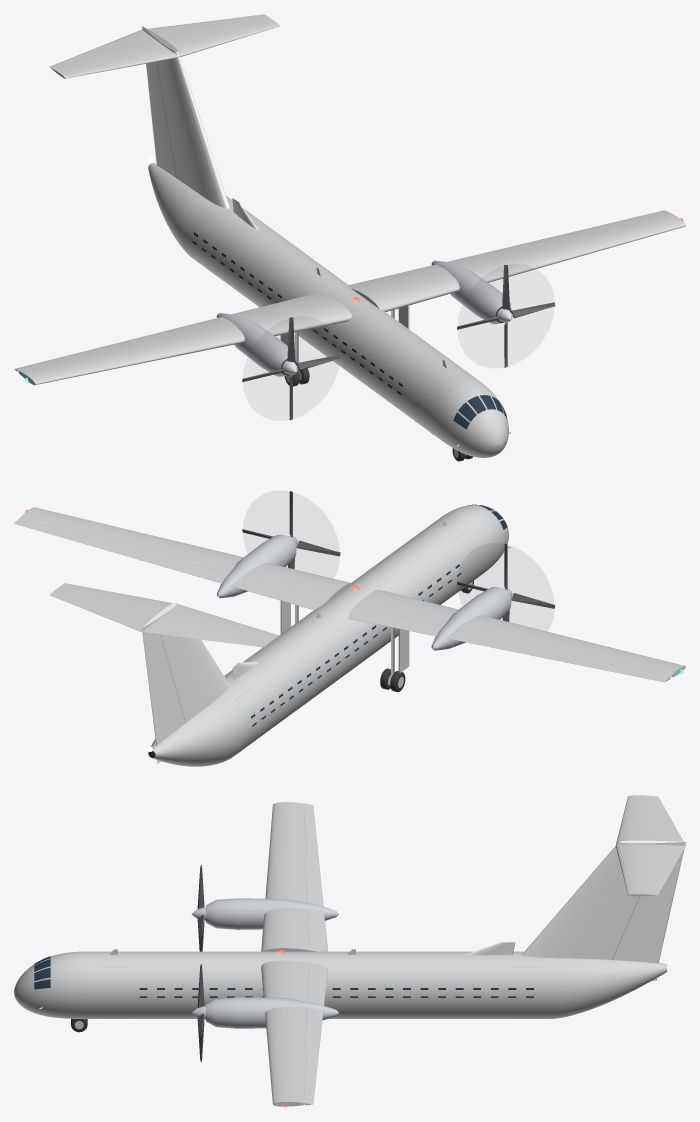
3 views of the same model, one above another, from view 1: azimuth 30°, elevation 25°; view 2: azimuth 150°, elevation 25°; view 3: azimuth 270°, elevation 25° (orthographic). The views are drawn at different scales.
Parts seen in each view (by area): view 1: airframe, prop (×2), gear; view 2: airframe, gear, prop (×2); view 3: airframe.
Boxes of the visible parts, x1,y1,x2,y2 form: airframe: (14,14,685,457); prop (×2): (242,265,555,420); gear: (280,305,472,461); airframe: (14,504,685,766); gear: (280,581,473,692); prop (×2): (242,491,555,621); airframe: (14,795,685,1107).
Size of the model in its own units: 21.64 by 6.24 by 20.28.
